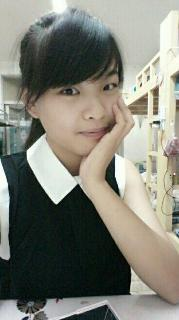short sleeve dress: (0, 132, 131, 301)
